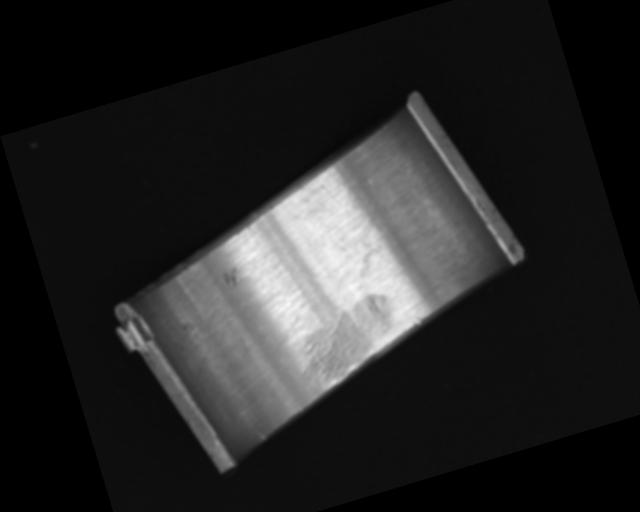blot: (335, 221, 395, 285)
bruise: (220, 265, 243, 288), (411, 315, 426, 327)
nick: (253, 428, 265, 443)
scratch: (283, 288, 407, 392)
